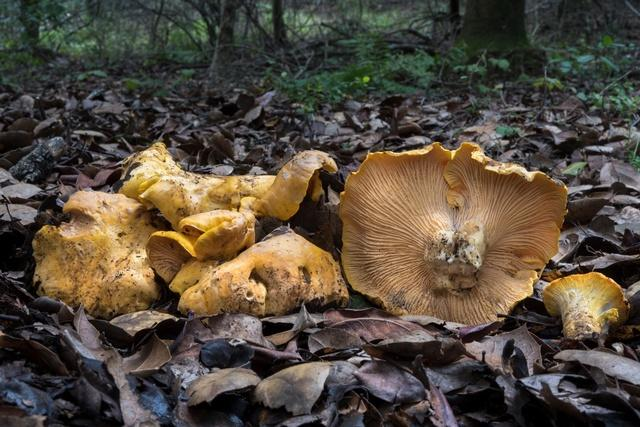edible_mushroom: (31, 148, 342, 307), (337, 140, 568, 326), (541, 270, 630, 345)
